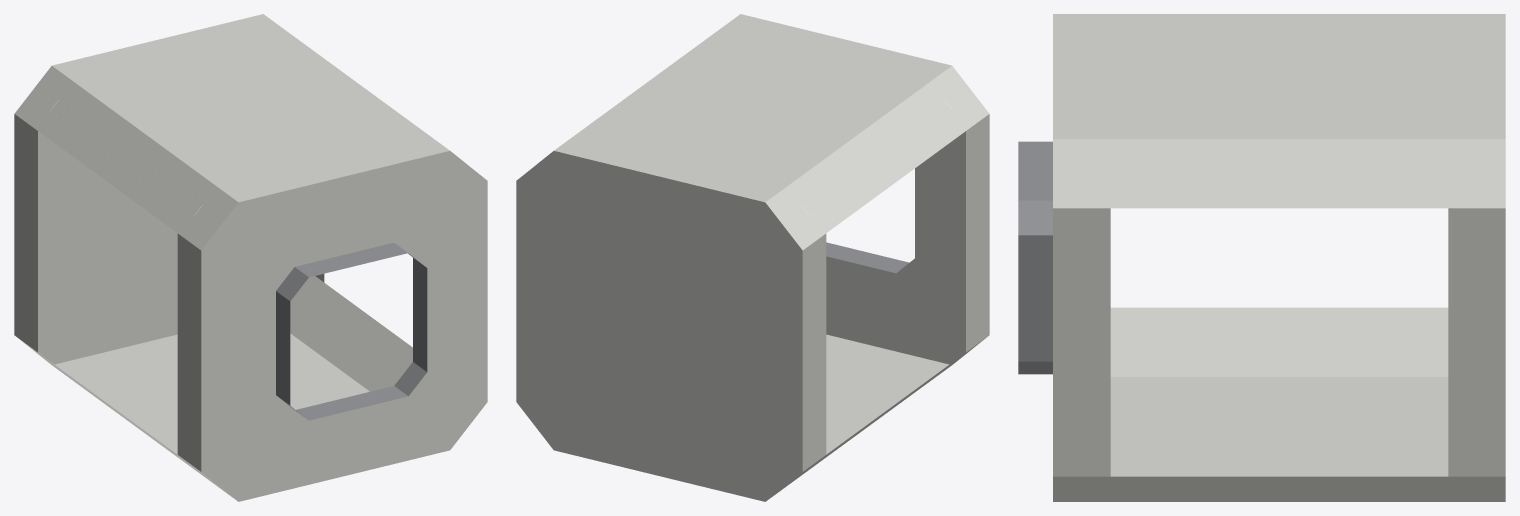
File: SM_Carguero_Bodega_Casco.fbx
The picture shows the model from 3 angles, left to right: view 1: azimuth 30°, elevation 25°; view 2: azimuth 150°, elevation 25°; view 3: azimuth 270°, elevation 25°; orthographic projection. The views are drawn at different scales.
Visible parts, largest first — view 1: SM_Carguero_Bodega_Casco; view 2: SM_Carguero_Bodega_Casco; view 3: SM_Carguero_Bodega_Casco.
Part boxes in pixels (box(x1,y1,x2,y2)): SM_Carguero_Bodega_Casco: box(14, 14, 487, 501); SM_Carguero_Bodega_Casco: box(516, 14, 989, 501); SM_Carguero_Bodega_Casco: box(1018, 14, 1505, 501).
Size of the model in its own units: 2.3 by 2.3 by 2.8.
